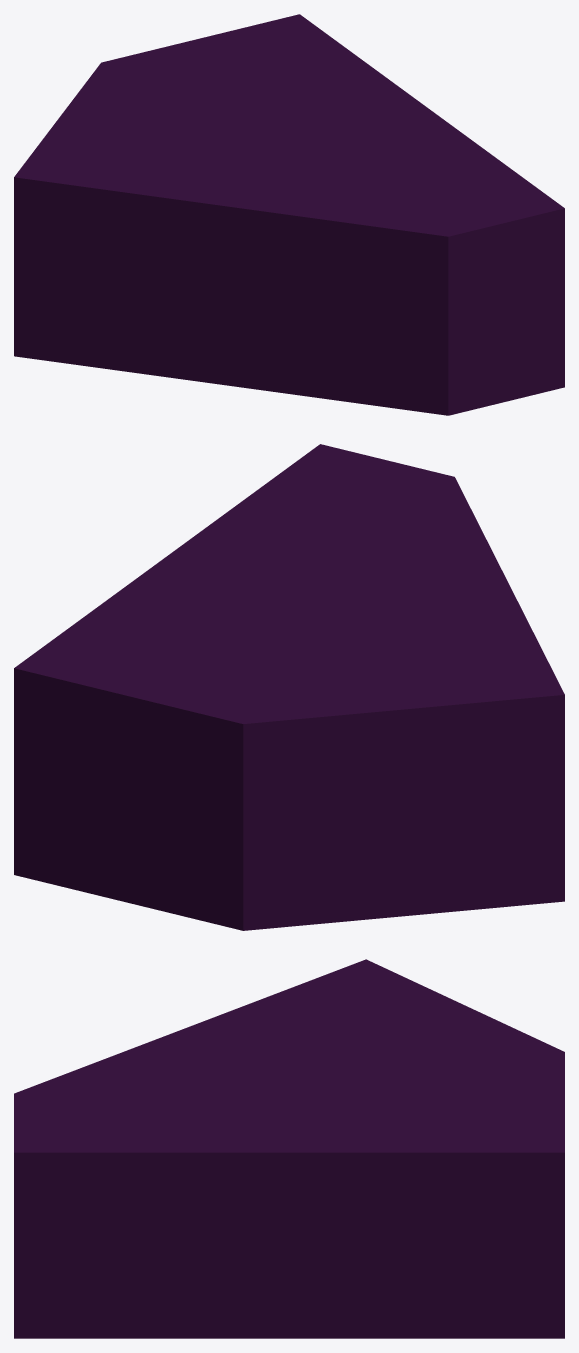
The model's file is buho3.glb.
The picture shows the model from 3 angles, top to bottom: view 1: azimuth 30°, elevation 25°; view 2: azimuth 150°, elevation 25°; view 3: azimuth 270°, elevation 25°; orthographic projection. The views are drawn at different scales.
Visible parts, largest first — view 1: buho3; view 2: buho3; view 3: buho3.
Boxes of the visible parts, x1=… form: buho3: x1=14, y1=14, x2=564, y2=415; buho3: x1=14, y1=444, x2=564, y2=930; buho3: x1=14, y1=959, x2=564, y2=1338.
Size of the model in its own units: 0.6833 by 0.3065 by 0.8229.
